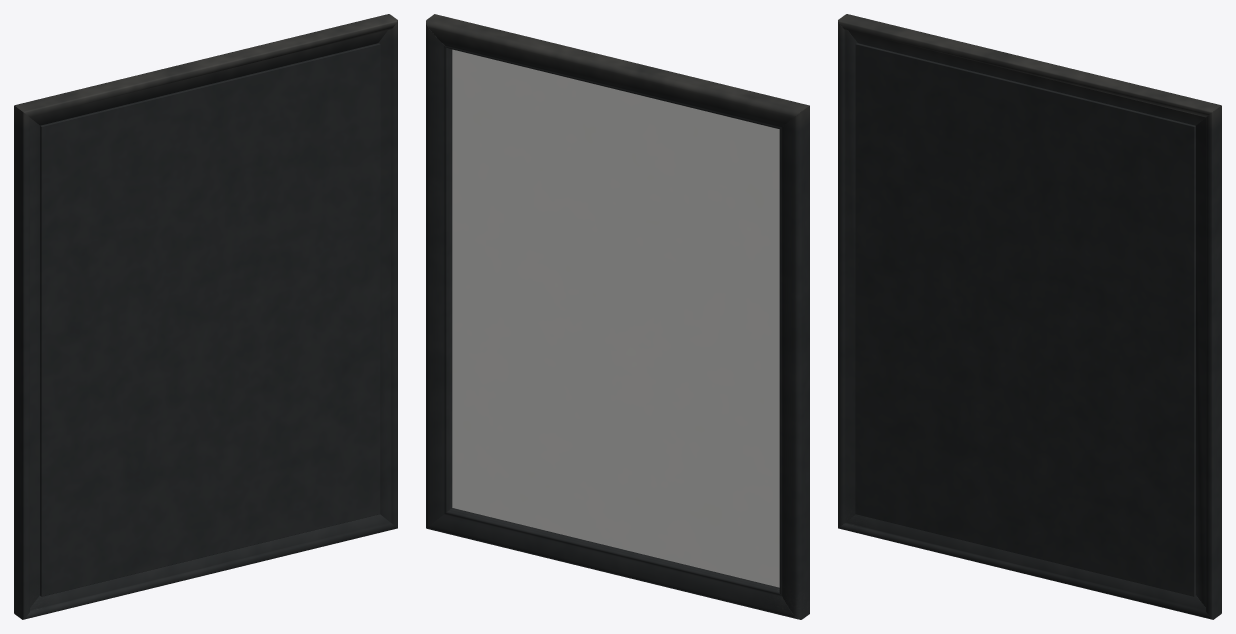
The model's file is certificate_frame.glb.
The picture shows the model from 3 angles, left to right: view 1: azimuth 30°, elevation 25°; view 2: azimuth 150°, elevation 25°; view 3: azimuth 330°, elevation 25°; orthographic projection.
Visible parts, largest first — view 1: moulding; view 2: picture, moulding; view 3: moulding.
Part boxes in pixels (x1=…): moulding: x1=14, y1=14, x2=397, y2=619; picture: x1=452, y1=49, x2=779, y2=587; moulding: x1=426, y1=14, x2=809, y2=619; moulding: x1=838, y1=14, x2=1221, y2=619.
Size of the model in its own units: 0.34 by 0.44 by 0.018.
Materials: 3 (2 with a texture image).
